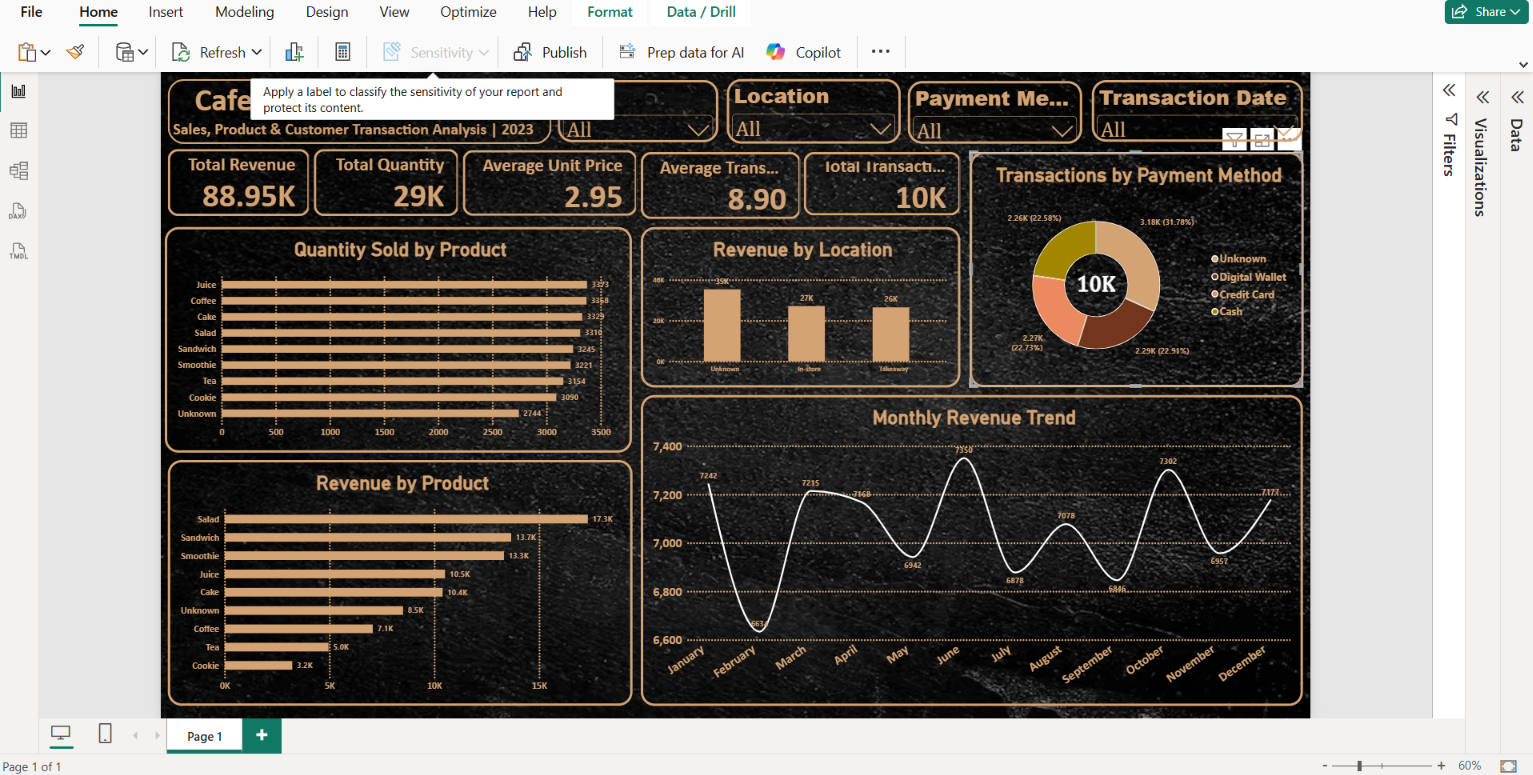

The dashboard page shown, as its layout file describes it:
{"tool":"powerbi","page":{"name":"Page 1","canvas":[1920,1080],"ordinal":0},"visuals":[{"type":"textbox","box":[10.9,0,626.1,86.9],"z":0},{"type":"shape","box":[10.9,10.9,640.6,108.6],"z":1000},{"type":"textbox","box":[7.2,12.7,629.8,99.5],"z":2000},{"type":"cardVisual","fields":{"Data":["CafeSales.Total Quantity"]},"box":[256,128.5,242.5,112.2],"z":3000},{"type":"cardVisual","fields":{"Data":["CafeSales.Total Transactions"]},"box":[1073.1,133.9,262.4,106.8],"z":4000},{"type":"cardVisual","fields":{"Data":["CafeSales.Total Revenue"]},"box":[10.9,128.5,237.1,112.2],"z":5000},{"type":"cardVisual","fields":{"Data":["CafeSales.Average Transaction Value"]},"box":[801.7,133.9,267.8,112.2],"z":6000},{"type":"cardVisual","fields":{"Data":["CafeSales.Average Unit Price"]},"box":[504.9,130.3,291.4,110.4],"z":7000},{"type":"lineChart","title":"Monthly Revenue Trend","fields":{"Category":["CafeSales.Month_Sort.Variation.Date Hierarchy.Month"],"Y":["CafeSales.Total Revenue"]},"box":[801.7,539.3,1105.7,519.4],"z":8000},{"type":"clusteredBarChart","title":"Revenue by Product","fields":{"Category":["CafeSales.Item"],"Y":["CafeSales.Total Revenue"]},"box":[10.9,647.9,776.3,410.8],"z":9000},{"type":"clusteredBarChart","title":"Quantity Sold by Product","fields":{"Category":["CafeSales.Item"],"Y":["CafeSales.Total Quantity"]},"box":[7.2,258.8,780,376.4],"z":10000},{"type":"donutChart","title":"Transactions by Payment Method","fields":{"Category":["CafeSales.Payment_Method"],"Y":["CafeSales.Total Transactions"]},"box":[1350,133.9,557.4,392.7],"z":11000},{"type":"slicer","fields":{"Values":["CafeSales.Location"]},"box":[944.6,10.9,290,108],"z":12000},{"type":"slicer","fields":{"Values":["CafeSales.Transaction_Date"]},"box":[1554.5,12.7,352.9,103.2],"z":13000},{"type":"slicer","fields":{"Values":["CafeSales.Payment_Method"]},"box":[1246.9,14.5,291,105],"z":14000},{"type":"slicer","fields":{"Values":["CafeSales.Item"]},"box":[662.3,12.7,268,104],"z":15000},{"type":"clusteredColumnChart","title":"Revenue by Location","fields":{"Category":["CafeSales.Location"],"Y":["CafeSales.Total Revenue"]},"box":[801.7,258.8,533.8,267.8],"z":15001}]}

Visuals, with their boxes on the page's 1920x1080 design canvas (x1, y1, x2, y2). These are canvas units, not pixel positions in the 1533x775 screenshot, which may show the page scaled, cropped or inside an application window:
textbox: x1=11, y1=0, x2=637, y2=87
shape: x1=11, y1=11, x2=652, y2=120
textbox: x1=7, y1=13, x2=637, y2=112
cardVisual - CafeSales.Total Quantity: x1=256, y1=128, x2=498, y2=241
cardVisual - CafeSales.Total Transactions: x1=1073, y1=134, x2=1336, y2=241
cardVisual - CafeSales.Total Revenue: x1=11, y1=128, x2=248, y2=241
cardVisual - CafeSales.Average Transaction Value: x1=802, y1=134, x2=1070, y2=246
cardVisual - CafeSales.Average Unit Price: x1=505, y1=130, x2=796, y2=241
"Monthly Revenue Trend" lineChart: x1=802, y1=539, x2=1907, y2=1059
"Revenue by Product" clusteredBarChart: x1=11, y1=648, x2=787, y2=1059
"Quantity Sold by Product" clusteredBarChart: x1=7, y1=259, x2=787, y2=635
"Transactions by Payment Method" donutChart: x1=1350, y1=134, x2=1907, y2=527
slicer - CafeSales.Location: x1=945, y1=11, x2=1235, y2=119
slicer - CafeSales.Transaction_Date: x1=1554, y1=13, x2=1907, y2=116
slicer - CafeSales.Payment_Method: x1=1247, y1=14, x2=1538, y2=120
slicer - CafeSales.Item: x1=662, y1=13, x2=930, y2=117
"Revenue by Location" clusteredColumnChart: x1=802, y1=259, x2=1336, y2=527
